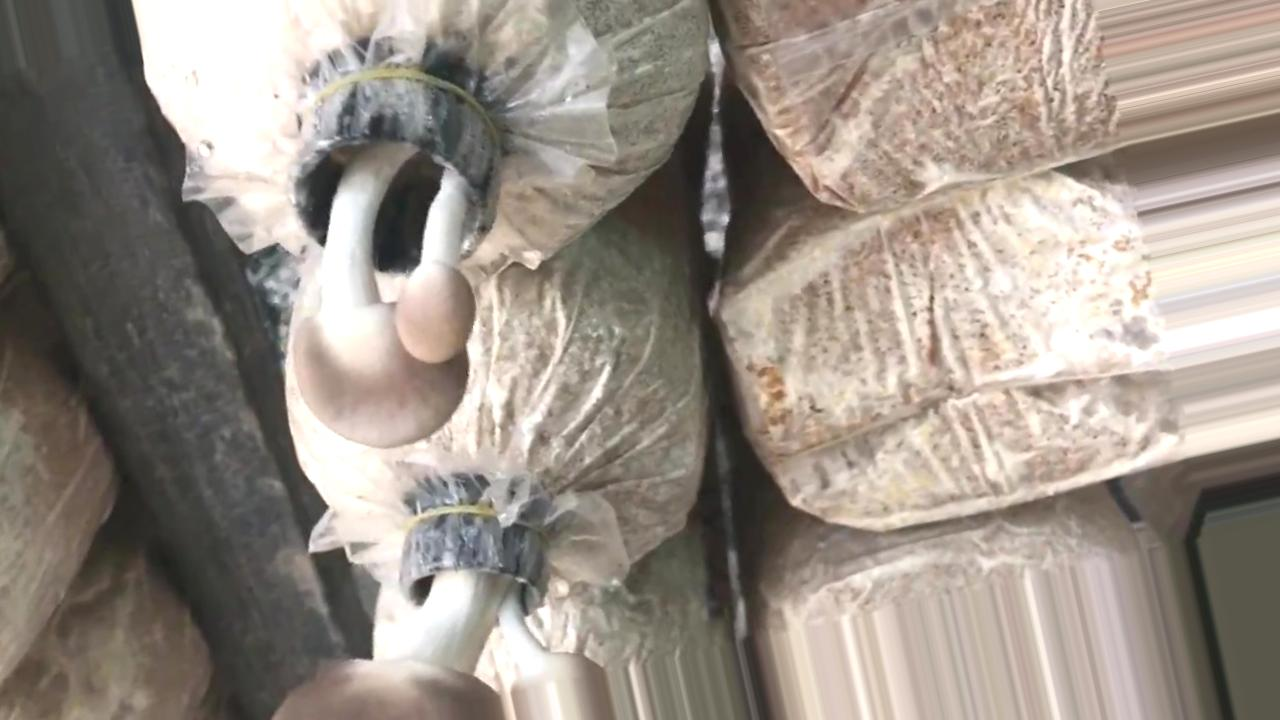nam: (294, 76, 502, 445), (278, 504, 611, 719)
